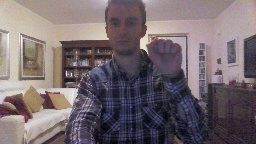Pugno: (144, 35, 184, 77)
